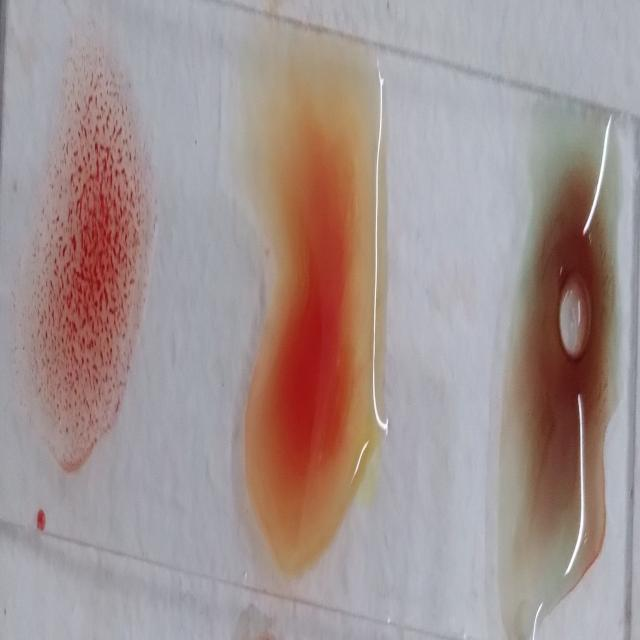D: (29, 46, 158, 490)
